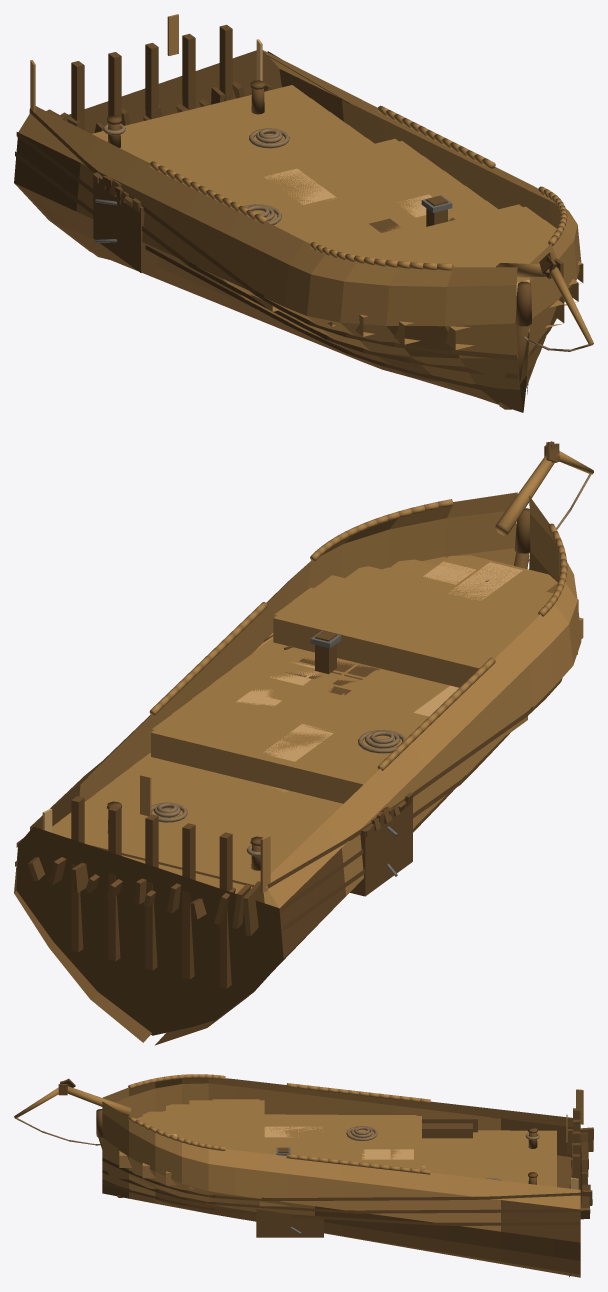
The model's file is WreckBowHalf.fbx.
3 renders of one model, top to bottom at view 1: azimuth 30°, elevation 25°; view 2: azimuth 150°, elevation 25°; view 3: azimuth 270°, elevation 25°, orthographic. The views are drawn at different scales.
Parts seen in each view (by area): view 1: WreckBowHalf; view 2: WreckBowHalf; view 3: WreckBowHalf.
Boxes of the visible parts, <box> form: WreckBowHalf: <box>14,14,593,412</box>; WreckBowHalf: <box>14,441,593,1045</box>; WreckBowHalf: <box>14,1074,593,1277</box>.
Size of the model in its own units: 620 by 638 by 1697.
